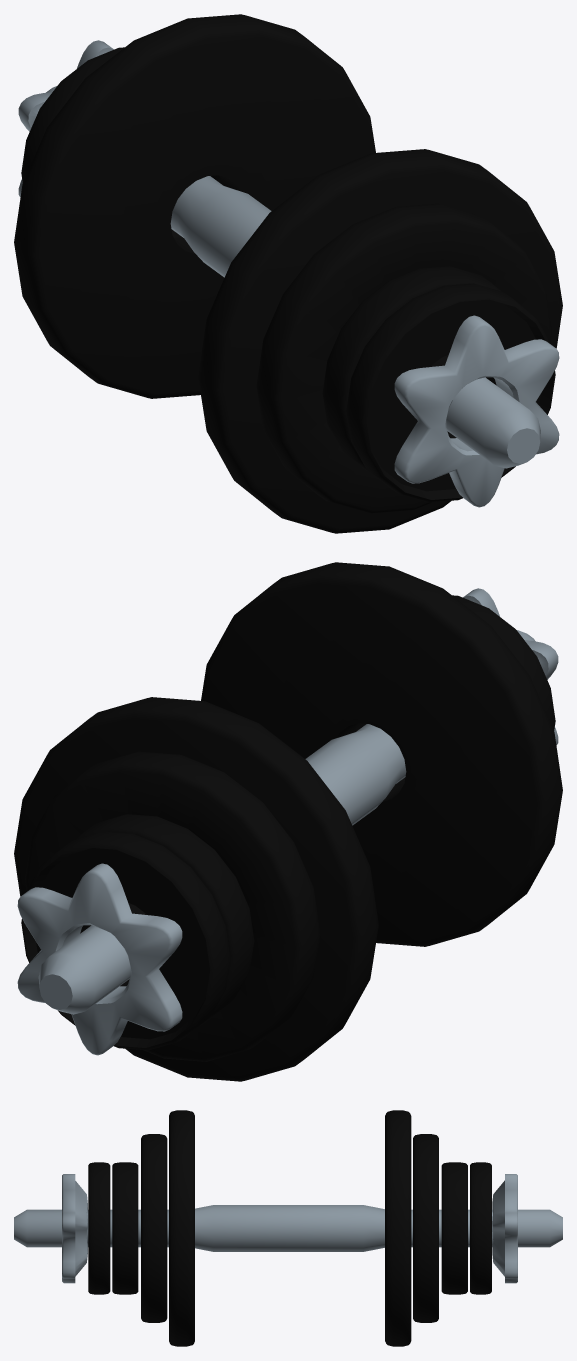
The model's file is Dumbbell3(FBX).FBX.
3 views of the same model, one above another, from view 1: azimuth 30°, elevation 25°; view 2: azimuth 150°, elevation 25°; view 3: azimuth 270°, elevation 25° (orthographic). The views are drawn at different scales.
Visible parts, largest first — view 1: Cylinder002, Cylinder010, Cylinder009, Cylinder007, Star002, Cylinder001, Cylinder008, Cylinder006, Star001; view 2: Cylinder010, Cylinder002, Cylinder004, Cylinder006, Star001, Cylinder001, Cylinder005, Cylinder007, Star002; view 3: Cylinder001, Cylinder002, Cylinder010, Cylinder009, Cylinder004, Cylinder005, Cylinder008, Cylinder007, Cylinder006, Star002, Star001.
Boxes of the visible parts, <box> form: Cylinder002: <box>14,14,375,398</box>; Cylinder010: <box>198,149,562,533</box>; Cylinder009: <box>256,203,551,513</box>; Cylinder007: <box>346,283,555,502</box>; Star002: <box>394,315,559,507</box>; Cylinder001: <box>46,86,540,468</box>; Cylinder008: <box>322,266,501,477</box>; Cylinder006: <box>21,47,124,182</box>; Star001: <box>18,40,113,197</box>; Cylinder010: <box>201,562,562,946</box>; Cylinder002: <box>14,697,378,1081</box>; Cylinder004: <box>25,751,320,1061</box>; Cylinder006: <box>21,831,230,1050</box>; Star001: <box>17,863,182,1055</box>; Cylinder001: <box>38,630,535,1014</box>; Cylinder005: <box>75,814,254,1025</box>; Cylinder007: <box>452,595,555,730</box>; Star002: <box>463,588,558,745</box>; Cylinder001: <box>14,1205,562,1251</box>; Cylinder002: <box>385,1110,411,1346</box>; Cylinder010: <box>169,1110,194,1346</box>; Cylinder009: <box>141,1134,167,1322</box>; Cylinder004: <box>413,1134,438,1322</box>; Cylinder005: <box>441,1162,467,1294</box>; Cylinder008: <box>112,1162,138,1294</box>; Cylinder007: <box>88,1162,110,1294</box>; Cylinder006: <box>470,1162,491,1294</box>; Star002: <box>62,1174,87,1283</box>; Star001: <box>492,1174,517,1283</box>.
Bounding box in the file's own units: 9.1 × 9.1 × 21.
